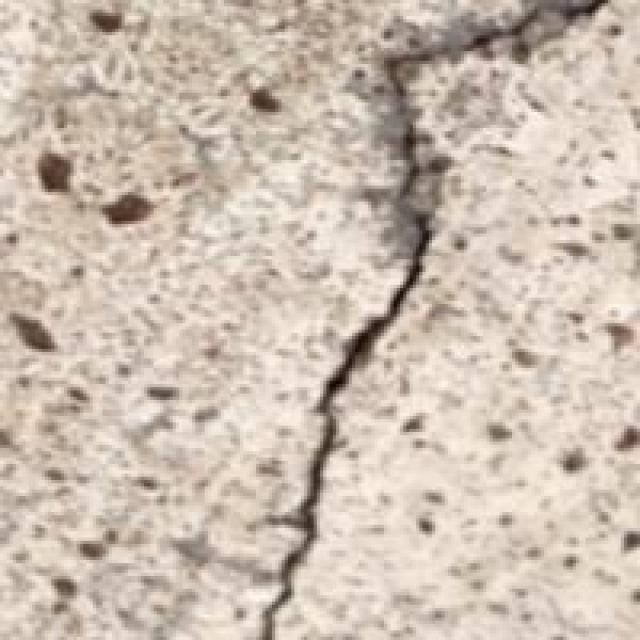Crack: (231, 0, 599, 637)
